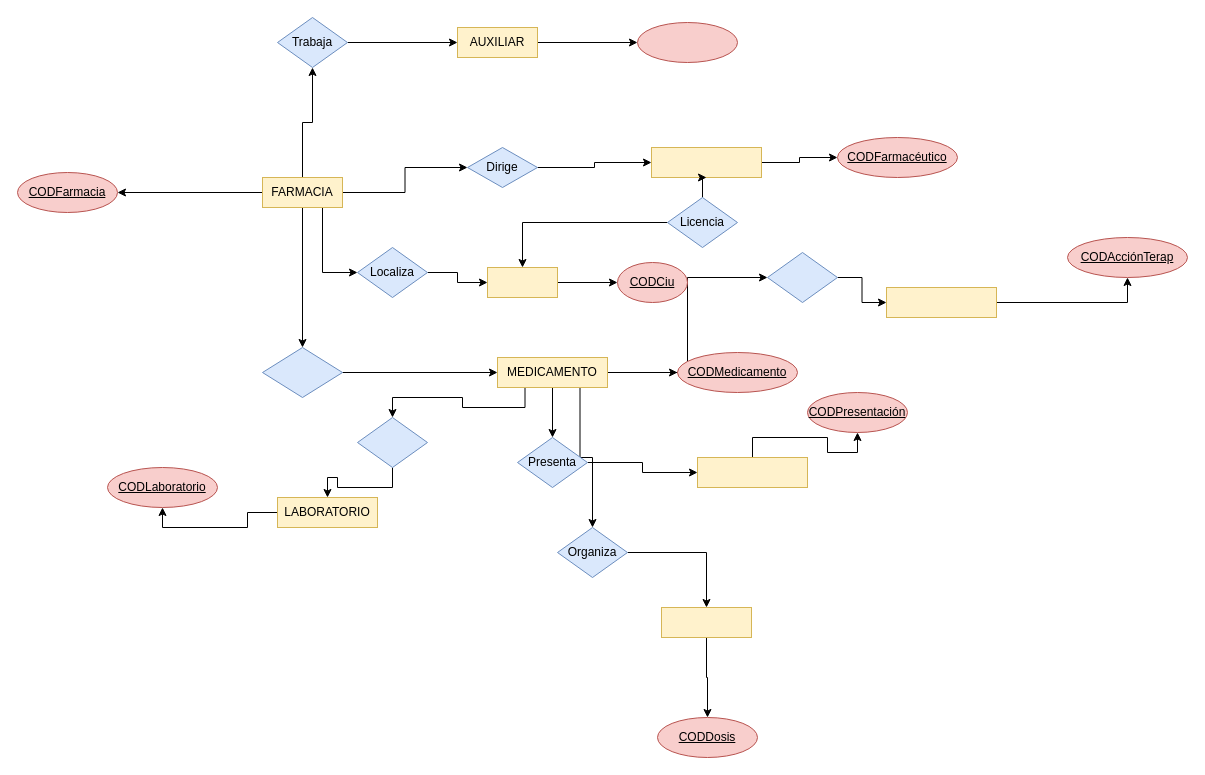
This 1205x775 diagram has some shape labels left out. The centre of each missing label's shape, as x and y in pixels:
"ACCIÓNTERAP" belongs at (x=941, y=302).
"Almacena" belongs at (x=302, y=372).
"CIUDAD" belongs at (x=522, y=282).
"CODEmpleado" belongs at (x=687, y=42).
"Fabrica" belongs at (x=392, y=442).
"FARMACÉUTICO" belongs at (x=706, y=162).
"MONODOSIS" belongs at (x=706, y=622).
"Ofrece" belongs at (x=802, y=277).
"PRESENTACIÓN" belongs at (x=752, y=472).
